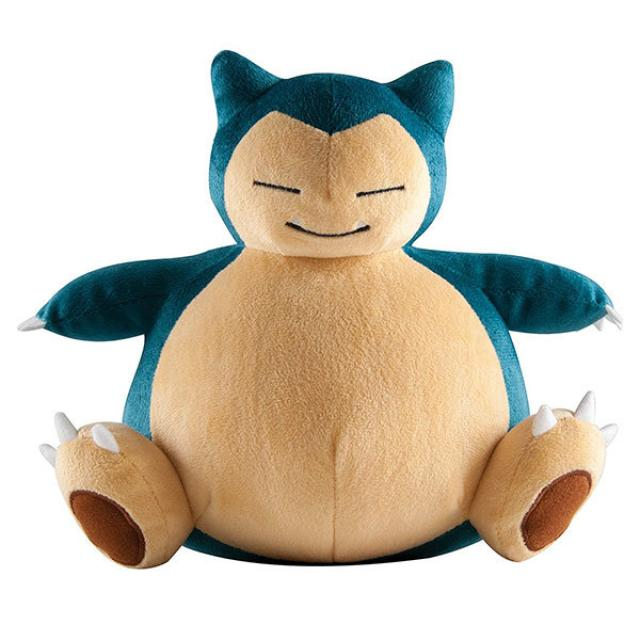Snorlax: (22, 60, 603, 580)
